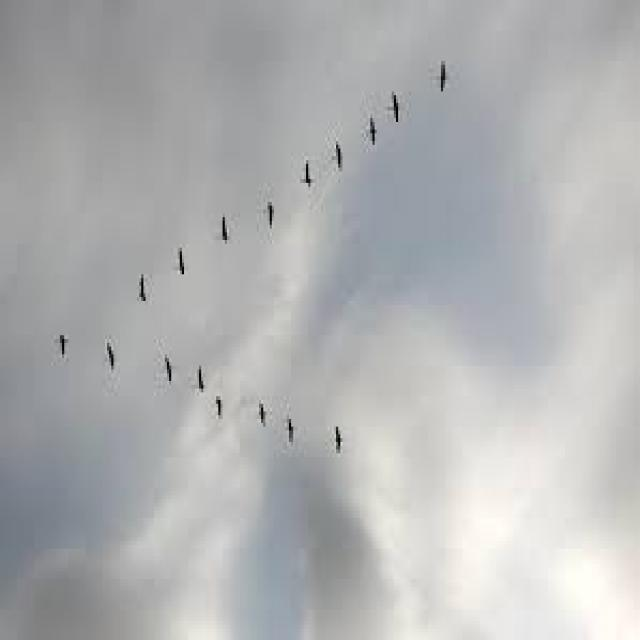bird: (144, 343, 186, 438), (184, 341, 210, 429), (360, 112, 392, 174), (294, 148, 322, 218), (430, 44, 458, 112), (332, 417, 354, 497), (126, 257, 158, 311), (213, 206, 243, 263), (259, 194, 285, 256), (169, 219, 193, 284), (105, 340, 126, 410), (386, 84, 406, 156), (50, 308, 74, 366), (327, 118, 349, 179), (250, 391, 272, 444), (212, 392, 227, 450), (288, 412, 303, 468)
